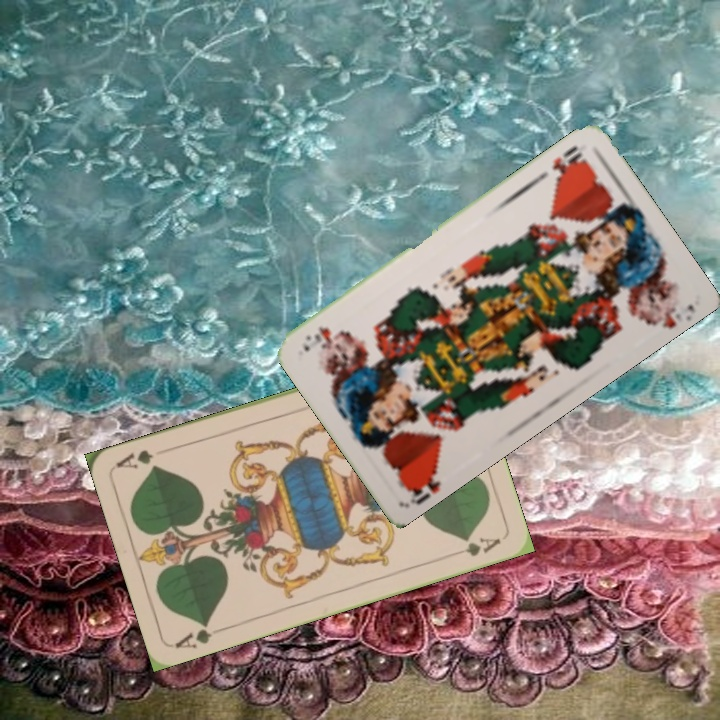GA: (170, 617, 228, 651)
HO: (402, 461, 444, 508), (547, 141, 588, 183)
